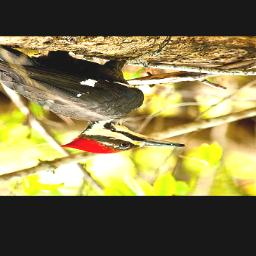Woodpecker: (0, 43, 189, 153)
